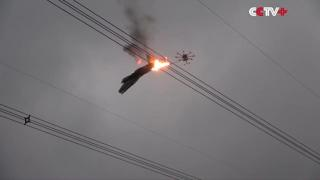UAV: (170, 51, 195, 66)
